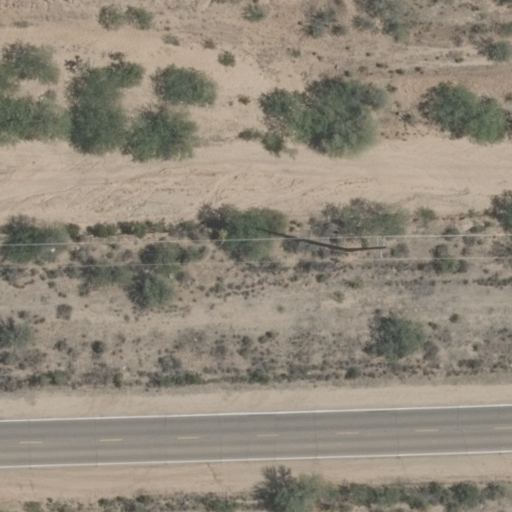DT: (339, 228, 398, 264)
